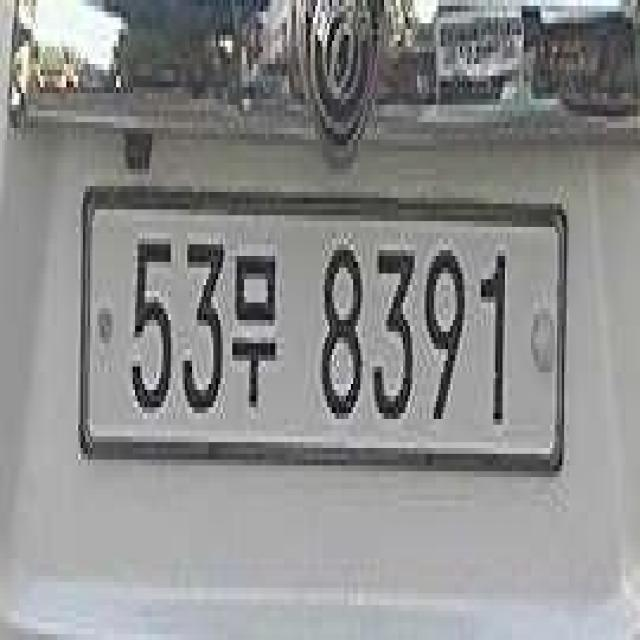1: (470, 248, 516, 442)
3: (182, 230, 226, 428), (374, 236, 416, 430)
5: (128, 228, 175, 418)
8: (318, 234, 362, 423)
9: (421, 240, 467, 430)
license_plate: (74, 168, 577, 498)
mu: (231, 245, 280, 424)
